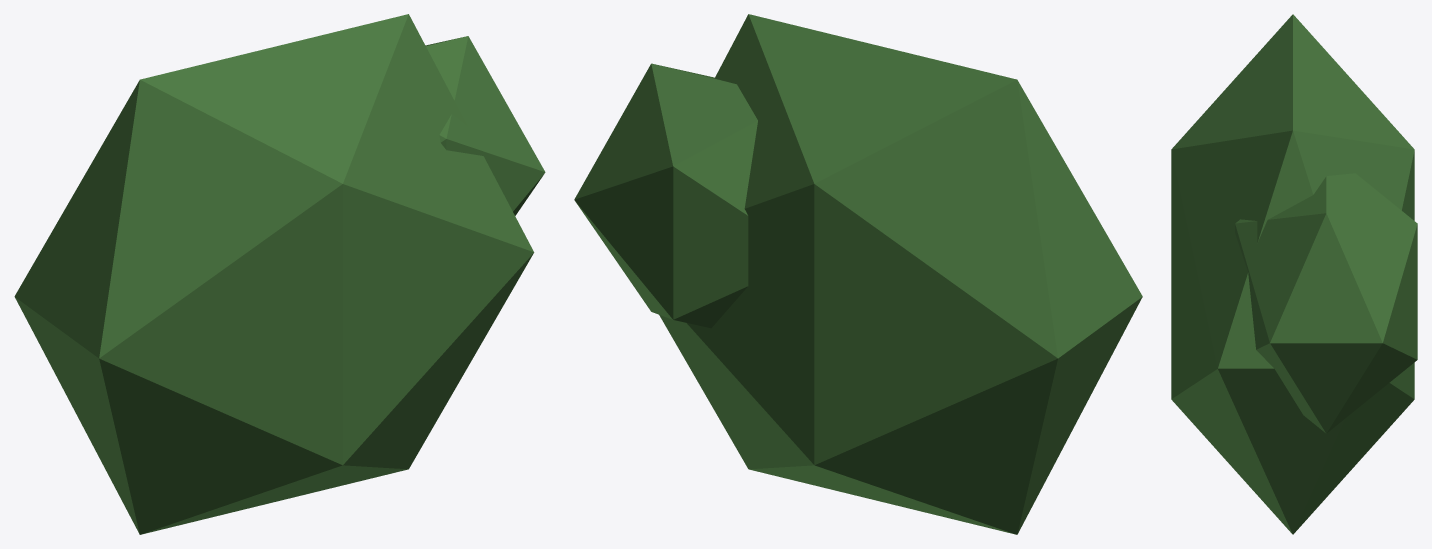
The model's file is shrub.obj.
3 renders of one model, left to right at view 1: azimuth 30°, elevation 25°; view 2: azimuth 150°, elevation 25°; view 3: azimuth 270°, elevation 25°, orthographic. The views are drawn at different scales.
Parts seen in each view (by area): view 1: shrub_foliage; view 2: shrub_foliage; view 3: shrub_foliage.
Boxes of the visible parts, left/top/right/bottom form: shrub_foliage: left=14, top=14, right=545, bottom=534; shrub_foliage: left=574, top=14, right=1142, bottom=534; shrub_foliage: left=1171, top=14, right=1417, bottom=534.
Size of the model in its own units: 4.09 by 3.74 by 2.07.
